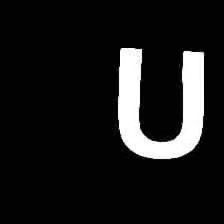LTR_U: (103, 35, 215, 168)
